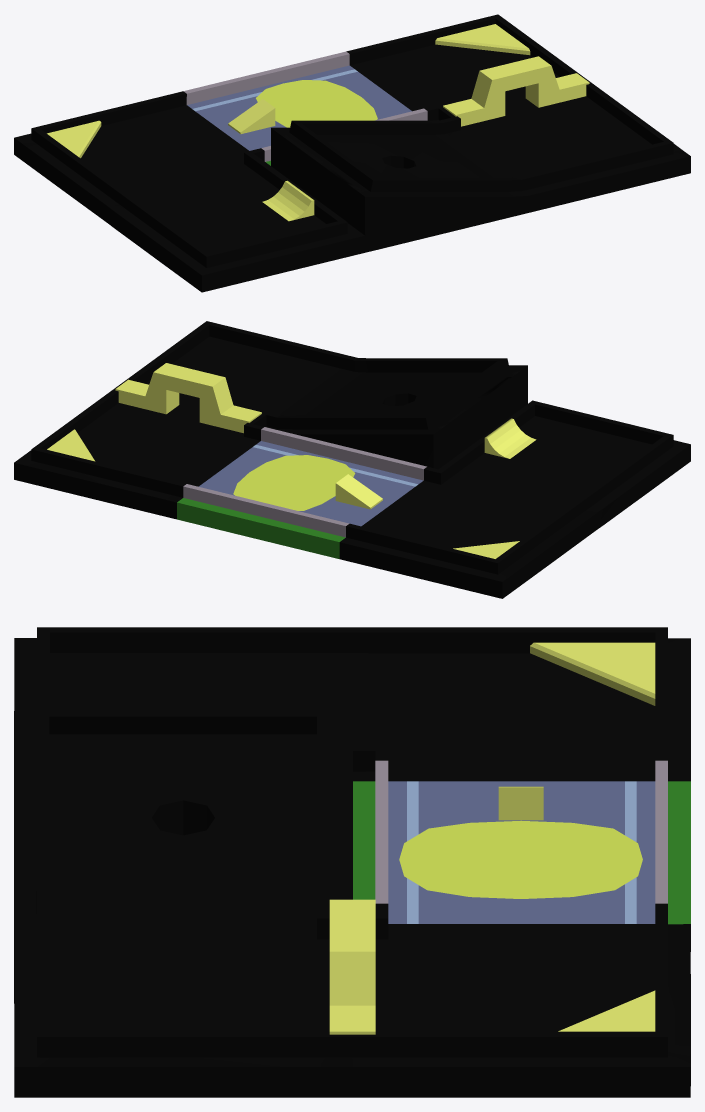
The model's file is Pista1Normal.fbx.
The picture shows the model from 3 angles, top to bottom: view 1: azimuth 30°, elevation 25°; view 2: azimuth 150°, elevation 25°; view 3: azimuth 270°, elevation 25°; orthographic projection. The views are drawn at different scales.
Visible parts, largest first — view 1: Box025.001, Box025.002, Box020, Plane.001, Object001.002, Cube, Cube.003, Object001.001; view 2: Box025.001, Box025.002, Box020, Plane.001, Cube, Cube.003, Object001.002, Object001.001; view 3: Box025.001, Box025.002, Plane.001, Box020, Object001.001, Object001.002, Cube.003.
Part boxes in pixels (left/top/right/bottom): Box025.001: left=14, top=44, right=690, bottom=292; Box025.002: left=31, top=14, right=673, bottom=267; Box020: left=443, top=56, right=589, bottom=126; Plane.001: left=256, top=80, right=377, bottom=127; Object001.002: left=435, top=24, right=530, bottom=55; Cube: left=262, top=180, right=314, bottom=221; Cube.003: left=228, top=99, right=275, bottom=134; Object001.001: left=47, top=120, right=101, bottom=158; Box025.001: left=14, top=336, right=690, bottom=598; Box025.002: left=31, top=321, right=673, bottom=574; Box020: left=115, top=363, right=261, bottom=433; Plane.001: left=233, top=455, right=355, bottom=510; Cube: left=484, top=418, right=536, bottom=458; Cube.003: left=335, top=474, right=382, bottom=509; Object001.002: left=47, top=429, right=95, bottom=461; Object001.001: left=453, top=541, right=519, bottom=558; Box025.001: left=14, top=638, right=690, bottom=1097; Box025.002: left=36, top=627, right=667, bottom=1057; Plane.001: left=399, top=820, right=642, bottom=898; Box020: left=329, top=899, right=375, bottom=1034; Object001.001: left=530, top=642, right=655, bottom=705; Object001.002: left=558, top=990, right=655, bottom=1031; Cube.003: left=498, top=786, right=543, bottom=820.
Size of the model in its own units: 151 by 19.03 by 101.
